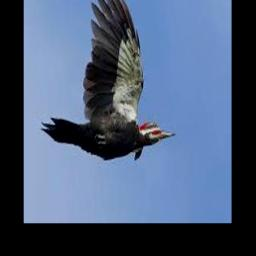Woodpecker: (41, 0, 176, 159)
